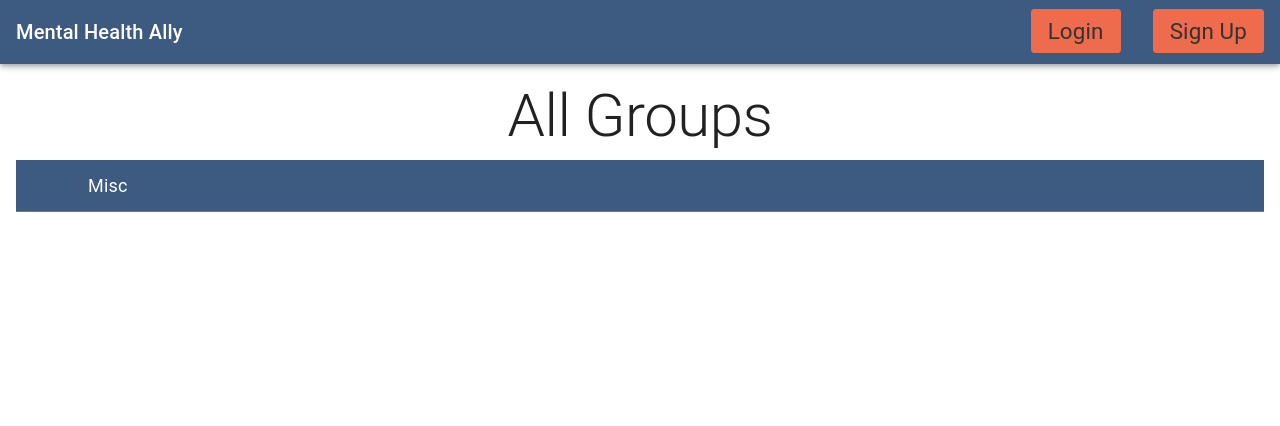
Scenario: Groups Page › Clicking on link directs to Group Page
The width and height of the screenshot is (1280, 426).
Click the link "Misc": {"x": 108, "y": 186} [16,160,1264,211]
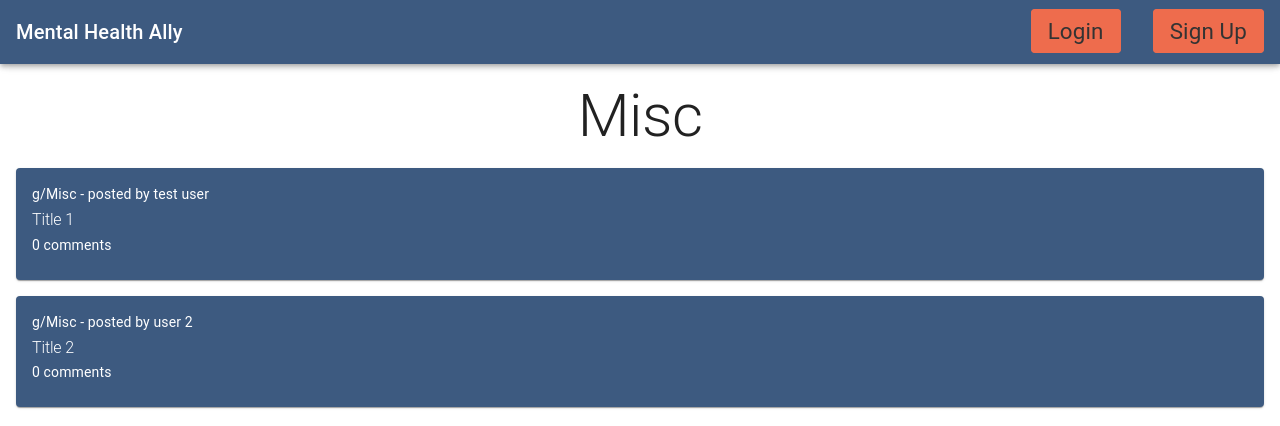
Check: the heading "Misc" is shown, box [578,80,702,151]
